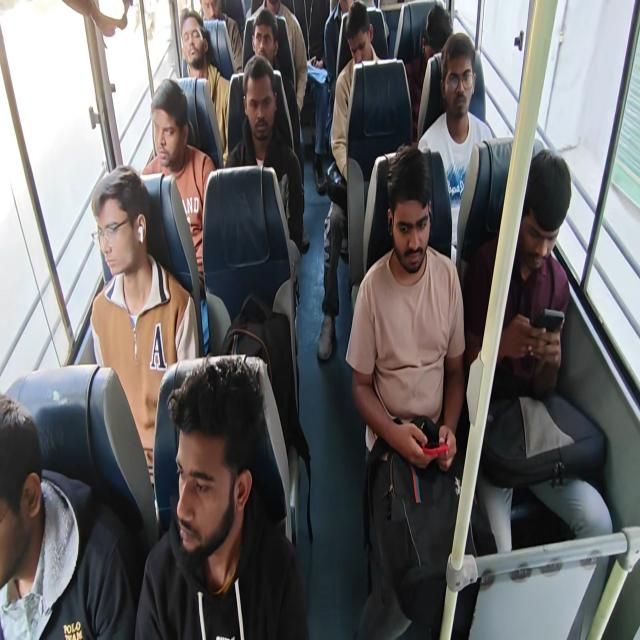person: (157, 377, 293, 633), (0, 393, 98, 640), (515, 166, 606, 362), (370, 168, 460, 320), (98, 172, 170, 310), (133, 98, 202, 183), (442, 36, 490, 132), (240, 69, 286, 144), (422, 1, 461, 71), (346, 14, 387, 78), (244, 15, 282, 77), (322, 0, 387, 29), (174, 12, 201, 67), (190, 0, 230, 23), (253, 0, 297, 15)
